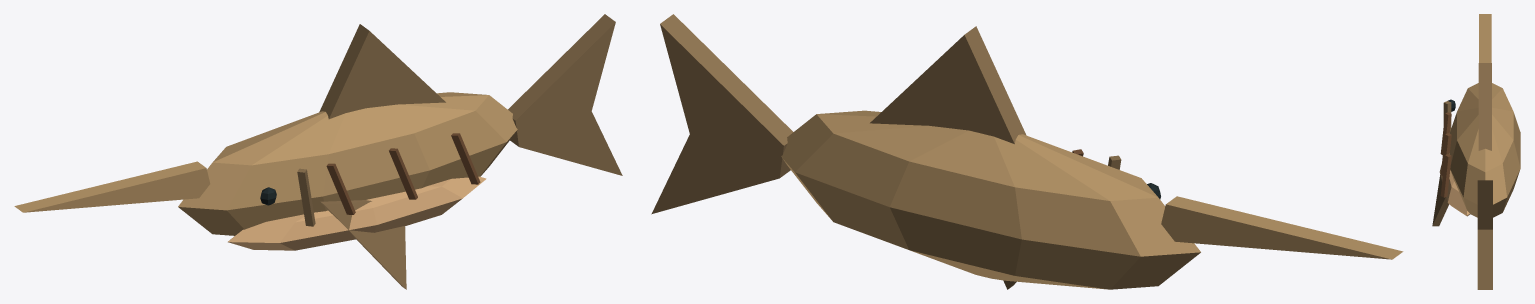
File: swordfish.glb
The picture shows the model from 3 angles, left to right: view 1: azimuth 30°, elevation 25°; view 2: azimuth 150°, elevation 25°; view 3: azimuth 270°, elevation 25°; orthographic projection. The views are drawn at different scales.
Visible parts, largest first — view 1: swordfish; view 2: swordfish; view 3: swordfish.
Part boxes in pixels (box(x1,y1,x2,y2)): swordfish: box(14, 14, 622, 289); swordfish: box(651, 14, 1403, 289); swordfish: box(1432, 14, 1520, 289).
Size of the model in its own units: 1 by 0.3757 by 0.1855.
